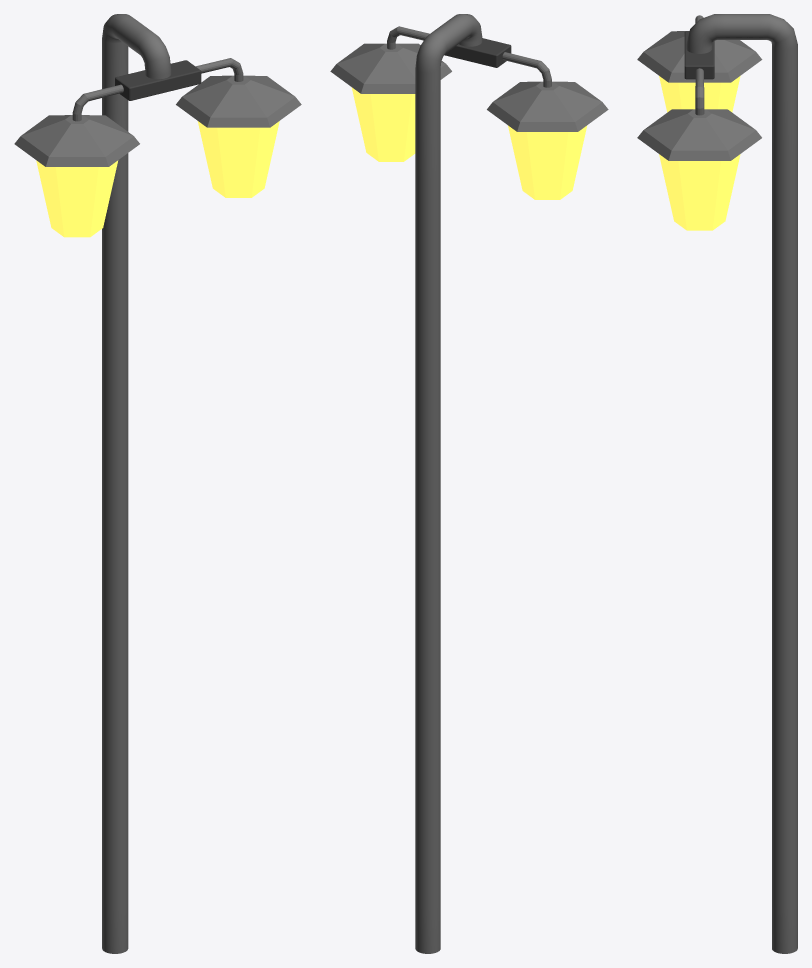
The model's file is street_lights2.gltf.
3 renders of one model, left to right at view 1: azimuth 30°, elevation 25°; view 2: azimuth 150°, elevation 25°; view 3: azimuth 270°, elevation 25°, orthographic. The views are drawn at different scales.
Visible parts, largest first — view 1: Pole.001; view 2: Pole.001; view 3: Pole.001.
Boxes of the visible parts, x1=… form: Pole.001: x1=14, y1=14, x2=301, y2=953; Pole.001: x1=330, y1=14, x2=608, y2=953; Pole.001: x1=637, y1=14, x2=797, y2=953.
Size of the model in its own units: 1.66 by 5.81 by 0.9071.
